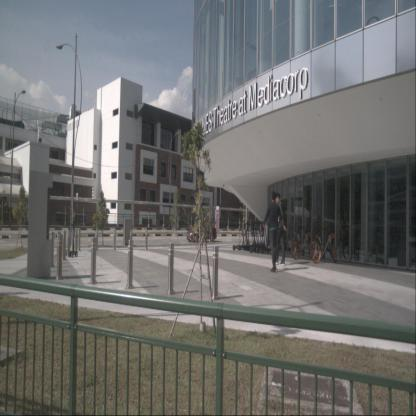human-pedestrian-adult: (262, 190, 282, 272), (274, 193, 288, 266)
vehicle-bicycle: (309, 232, 338, 265), (290, 229, 312, 260)
vehicle-car: (185, 224, 218, 242)
